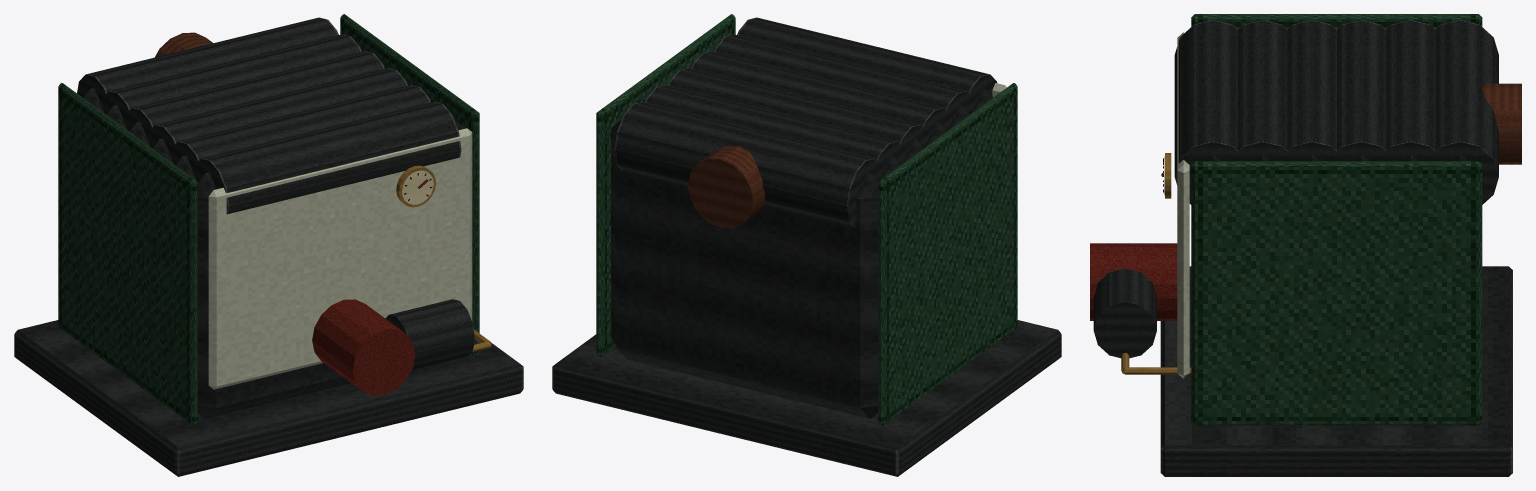
Rendered from level_boiler_oil.glb.
The picture shows the model from 3 angles, left to right: view 1: azimuth 30°, elevation 25°; view 2: azimuth 150°, elevation 25°; view 3: azimuth 270°, elevation 25°; orthographic projection. The views are drawn at different scales.
Parts seen in each view (by area): view 1: level_boiler_oil; view 2: level_boiler_oil; view 3: level_boiler_oil.
Boxes of the visible parts, x1,y1,x2,y2 form: level_boiler_oil: (14,14,523,476); level_boiler_oil: (552,14,1061,476); level_boiler_oil: (1090,14,1521,476).
Size of the model in its own units: 2.45 by 1.92 by 2.45.
Materials: 8 (8 with a texture image).
